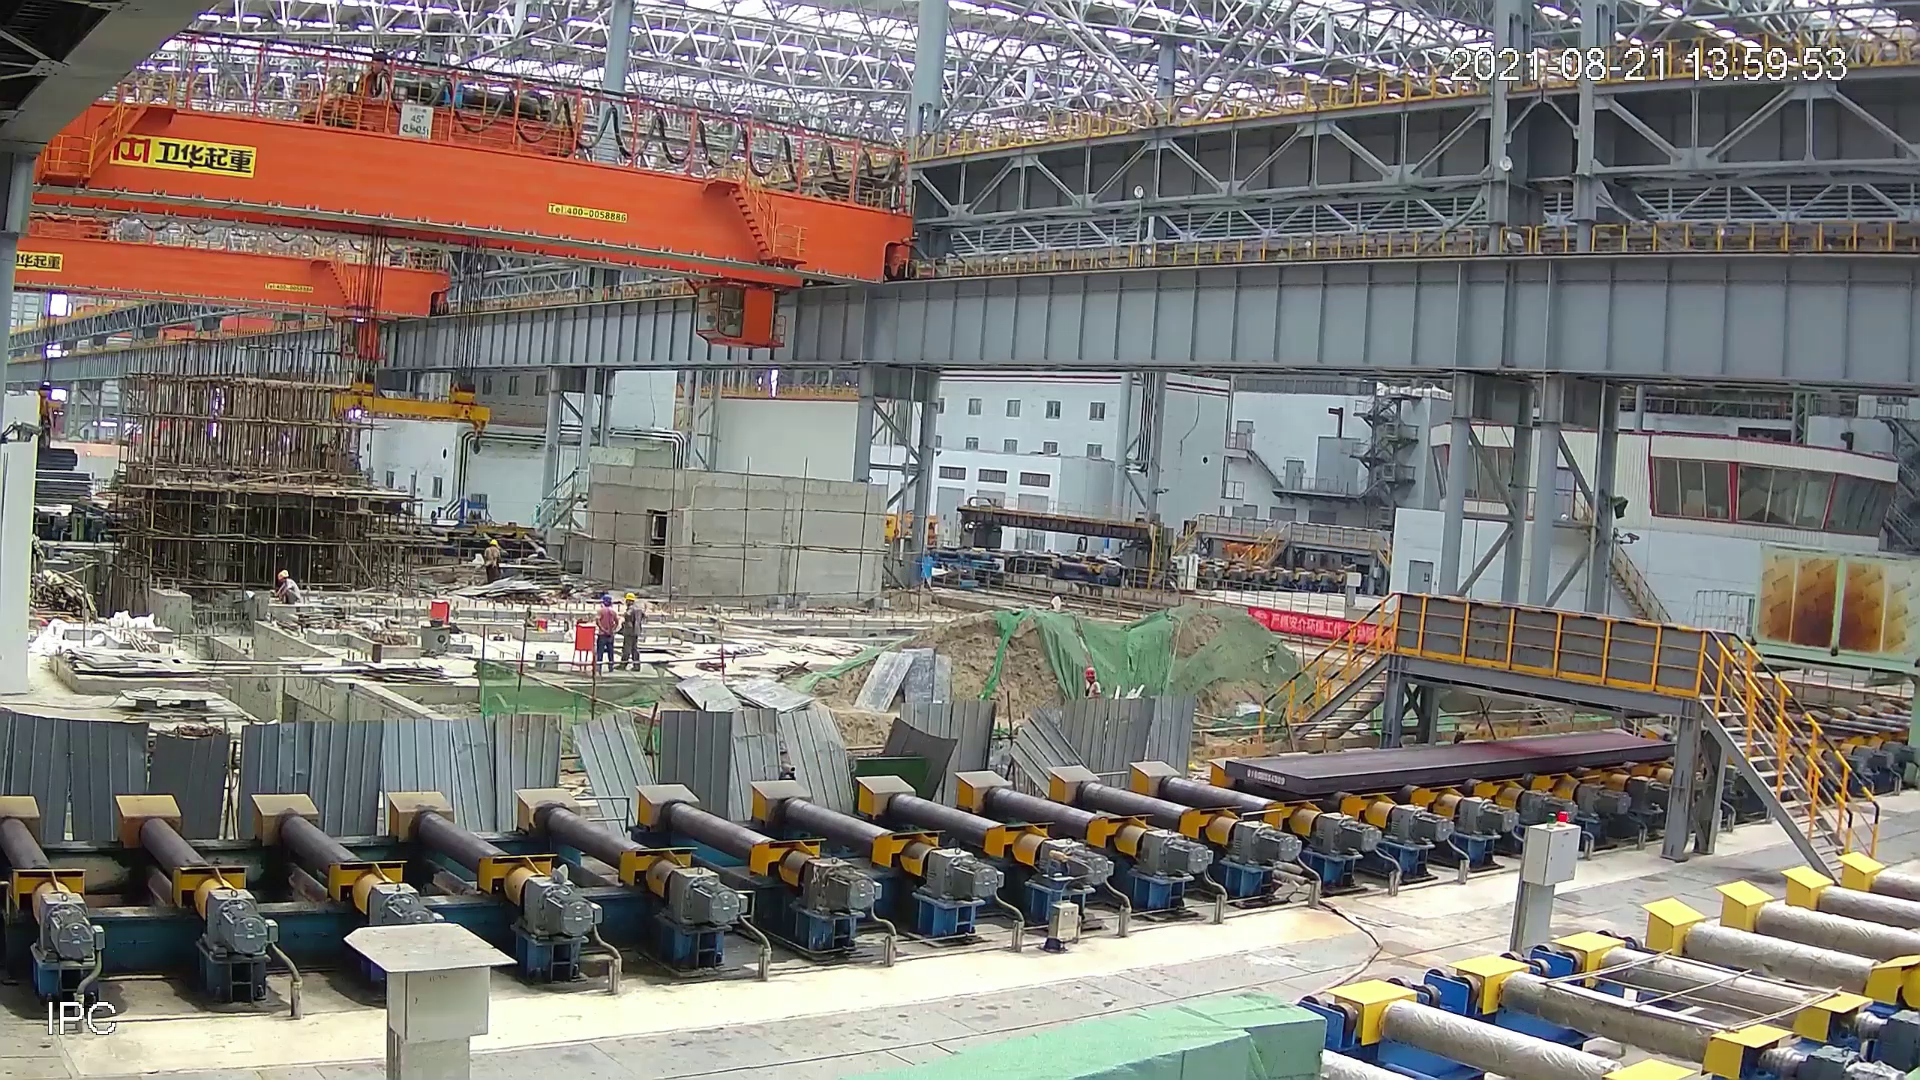slab: (1221, 727, 1673, 799)
